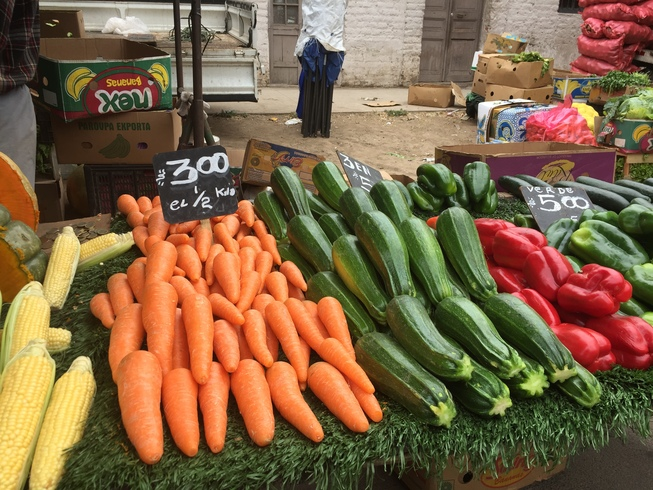precio: (150, 141, 254, 235), (513, 178, 610, 238), (334, 147, 398, 209)
